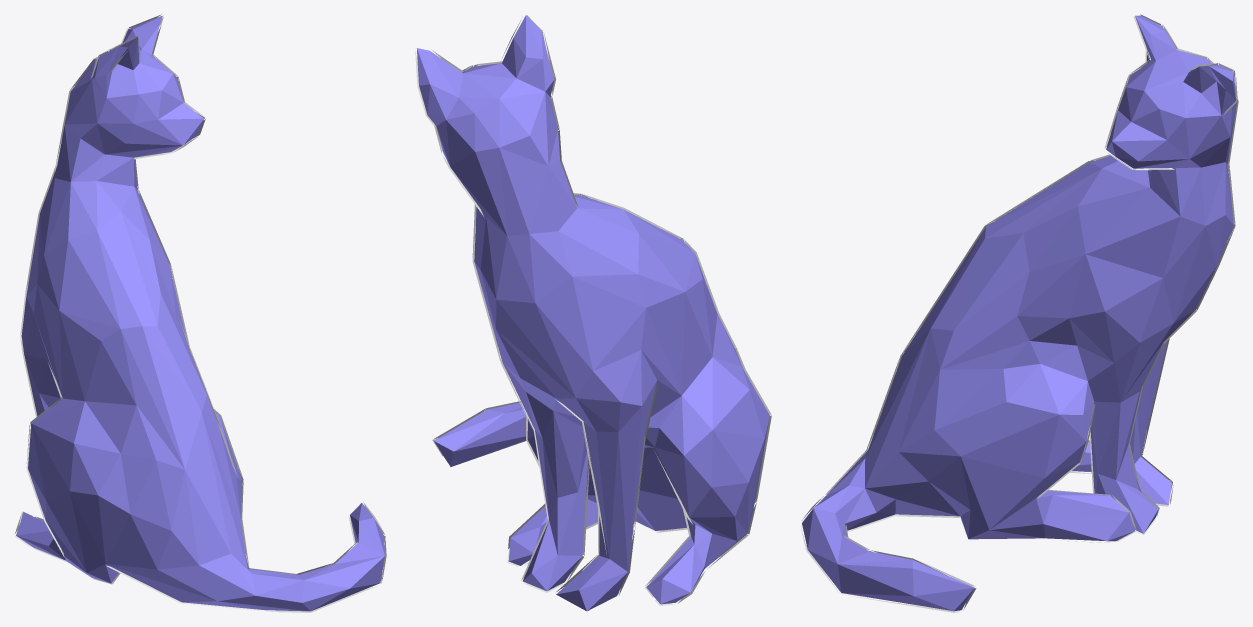
File: Cat.glb
3 views of the same model, side by side, from view 1: azimuth 30°, elevation 25°; view 2: azimuth 150°, elevation 25°; view 3: azimuth 270°, elevation 25° (orthographic). The views are drawn at different scales.
Parts seen in each view (by area): view 1: Cat Sitting; view 2: Cat Sitting; view 3: Cat Sitting.
Part boxes in pixels (x1,y1,x2,y2): Cat Sitting: (14,14,386,612); Cat Sitting: (415,15,771,612); Cat Sitting: (801,14,1238,612).
Bounding box in the file's own units: 4.21 × 6.53 × 4.96.
